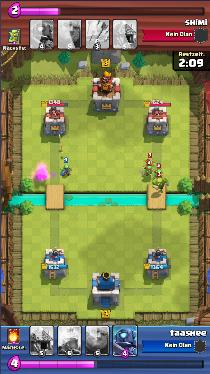EEVMegaKnight: (151, 177, 169, 193)
EKingTower: (61, 164, 72, 178)
OEVWizard: (142, 166, 152, 178), (153, 168, 163, 179), (146, 159, 156, 169)
